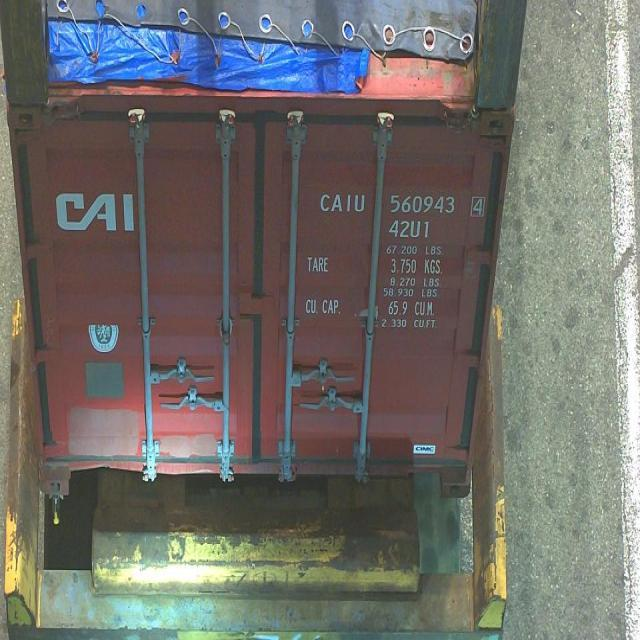ISO: (390, 220, 430, 240)
container_number: (322, 192, 488, 215)
